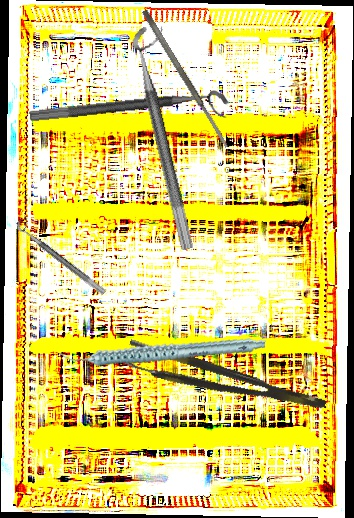Fixation Ring: (129, 23, 213, 251), (29, 88, 231, 139), (13, 214, 113, 296)
Handpiece: (58, 306, 267, 393)
Spatula Surgical: (141, 8, 230, 150)
Tissue Forceps: (122, 338, 328, 427)
